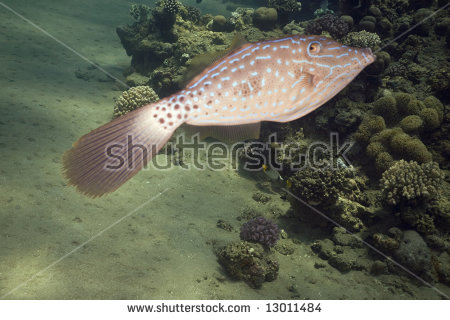Aluterus_scriptus: (54, 28, 379, 194)
